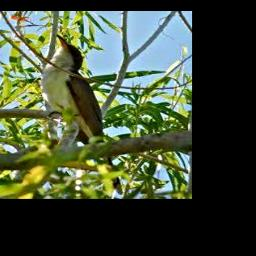Cuckoo: (41, 34, 124, 195)
